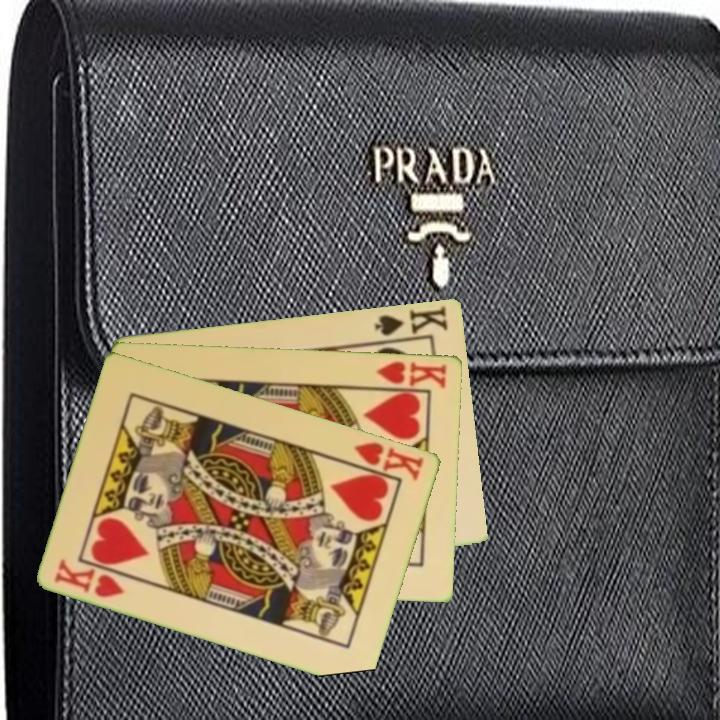Kh: (342, 438, 427, 484), (51, 555, 128, 601), (367, 357, 450, 392)
Ks: (371, 302, 451, 345)
